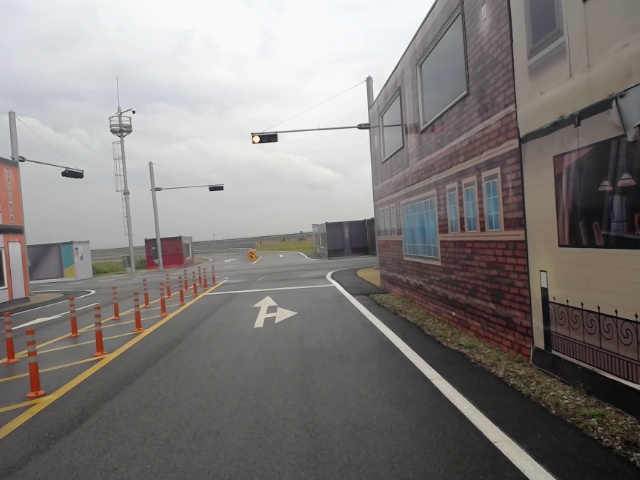red_3: (250, 133, 279, 144)
